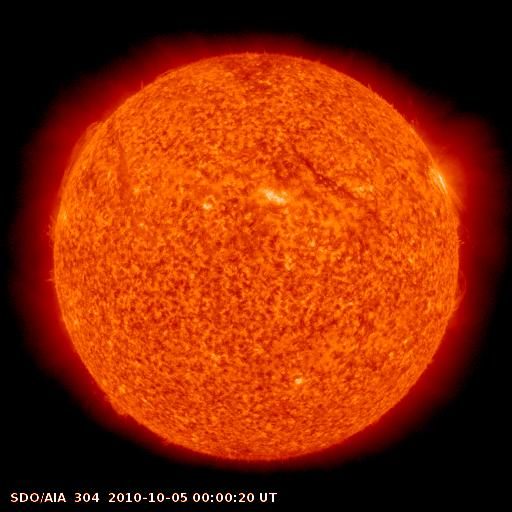prominence: (51, 117, 108, 202), (89, 378, 140, 432), (440, 263, 483, 323), (38, 206, 74, 260)
